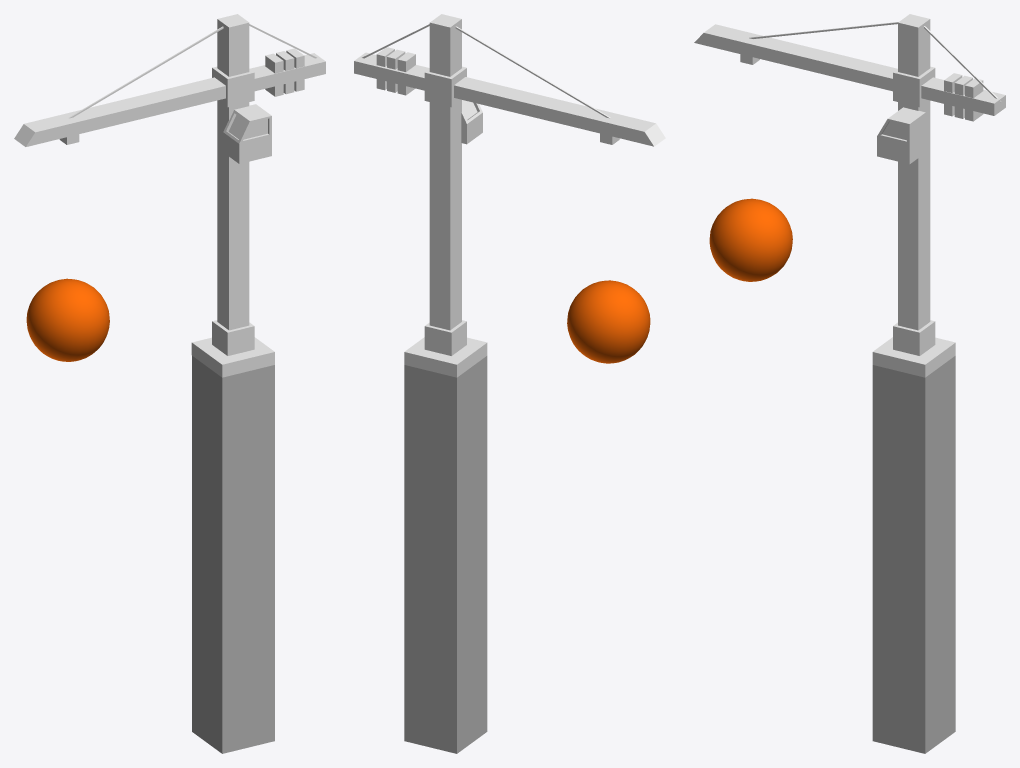
File: BALL.fbx
3 views of the same model, side by side, from view 1: azimuth 30°, elevation 25°; view 2: azimuth 150°, elevation 25°; view 3: azimuth 330°, elevation 25° (orthographic).
Visible parts, largest first — view 1: Cube__11_, crane__1_, Ball; view 2: Cube__11_, crane__1_, Ball; view 3: Cube__11_, crane__1_, Ball.
Boxes of the visible parts, box(x1,y1,x2,y2) form: Cube__11_: box(192, 356, 274, 753); crane__1_: box(14, 14, 325, 377); Ball: box(26, 278, 109, 361); Cube__11_: box(404, 356, 487, 753); crane__1_: box(354, 14, 665, 377); Ball: box(567, 280, 650, 363); Cube__11_: box(872, 356, 955, 753); crane__1_: box(694, 14, 1005, 377); Ball: box(709, 198, 792, 281).
Size of the model in its own units: 1246 by 2835 by 312.
